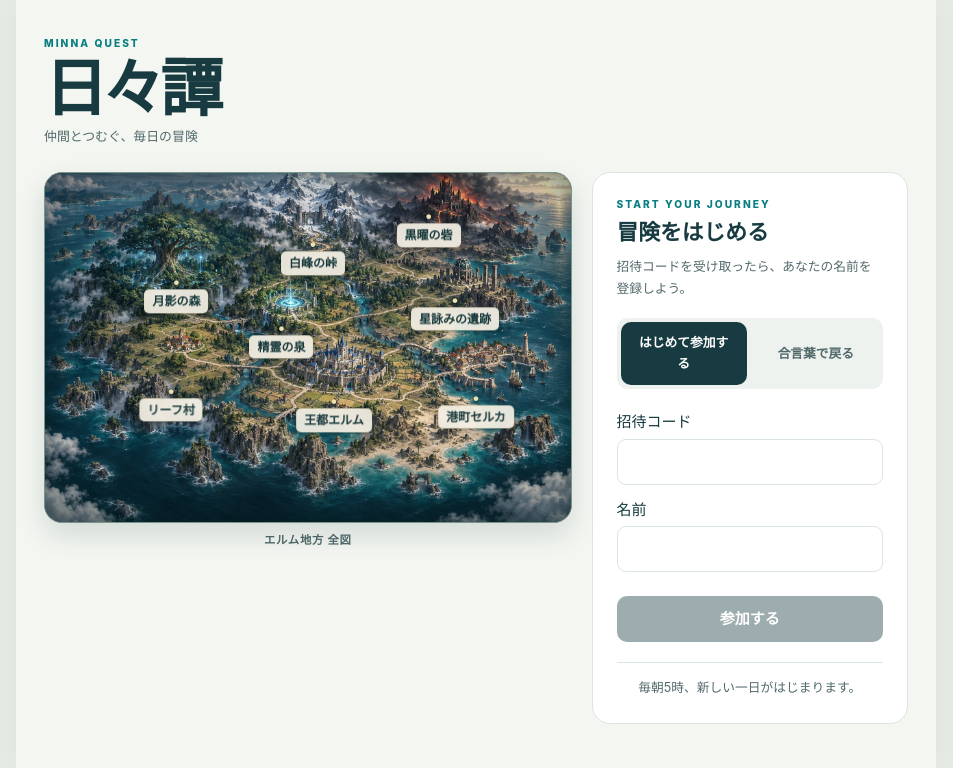
Scenario: 参加 › 招待コードが無効なとき、その旨が出て、トークンが保存されない
This screenshot has width=953, height=768.
Type "used-code" into the field labelled "招待コード" at (750, 462), box [616,439,883,485]
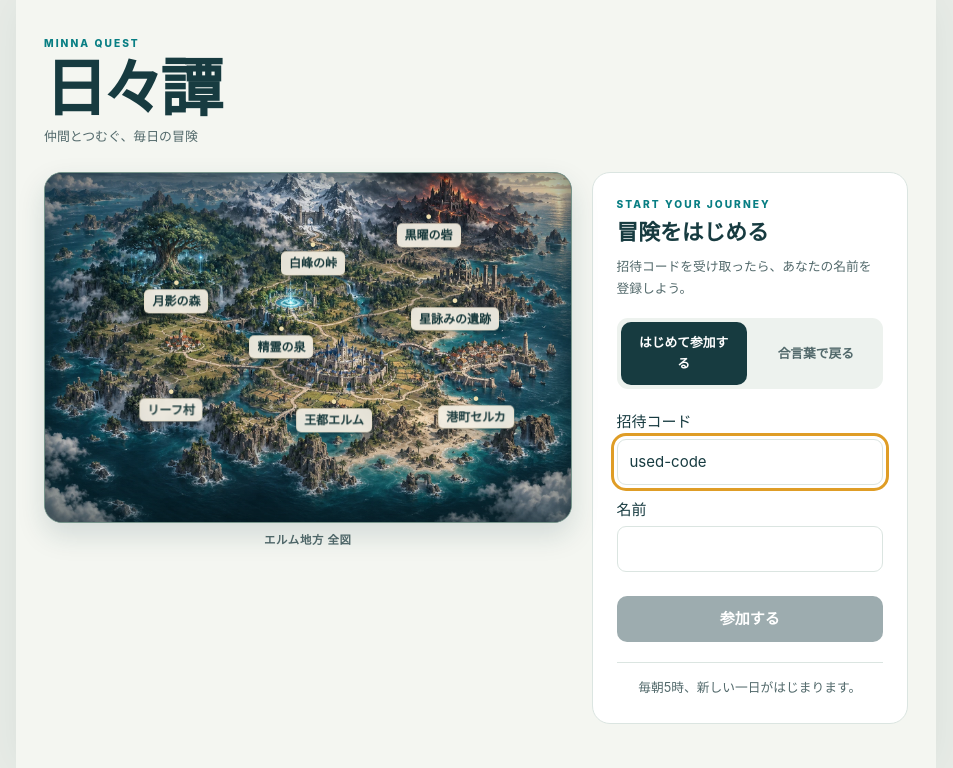
Type "たろう" into the field labelled "名前" at (750, 549), box [616,526,883,572]
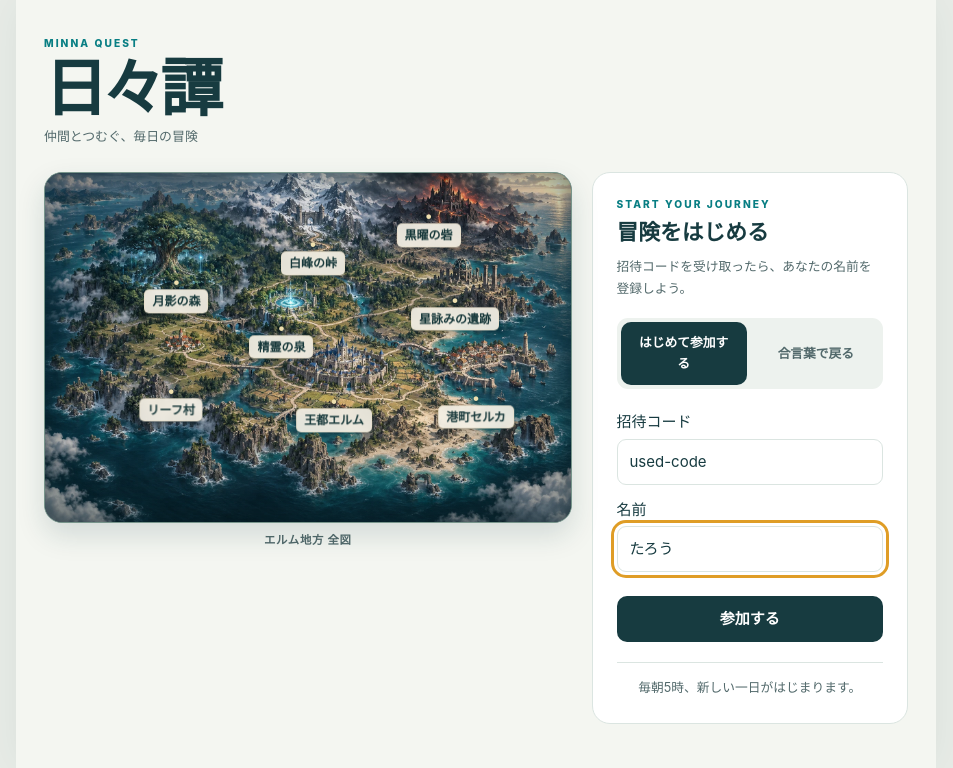
Click the button "参加する" at (750, 619), box [616,596,883,642]
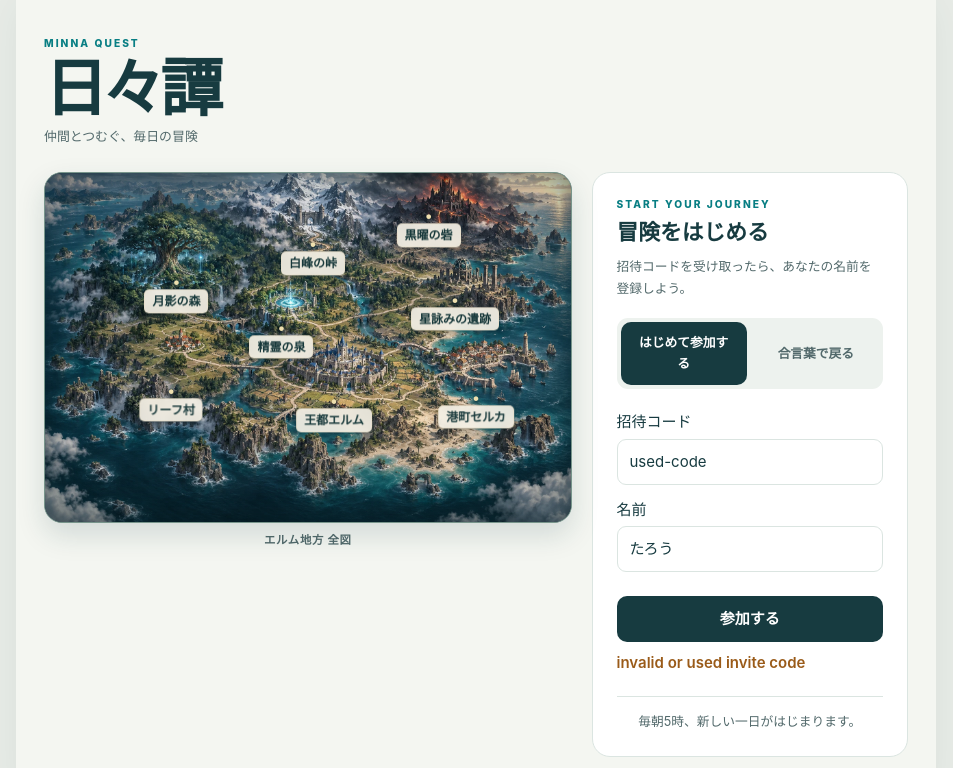
Check: the heading "日々譚" is shown, box [44,50,218,126]
Check: the message reads "invalid or used invite code", box [616,653,805,672]
